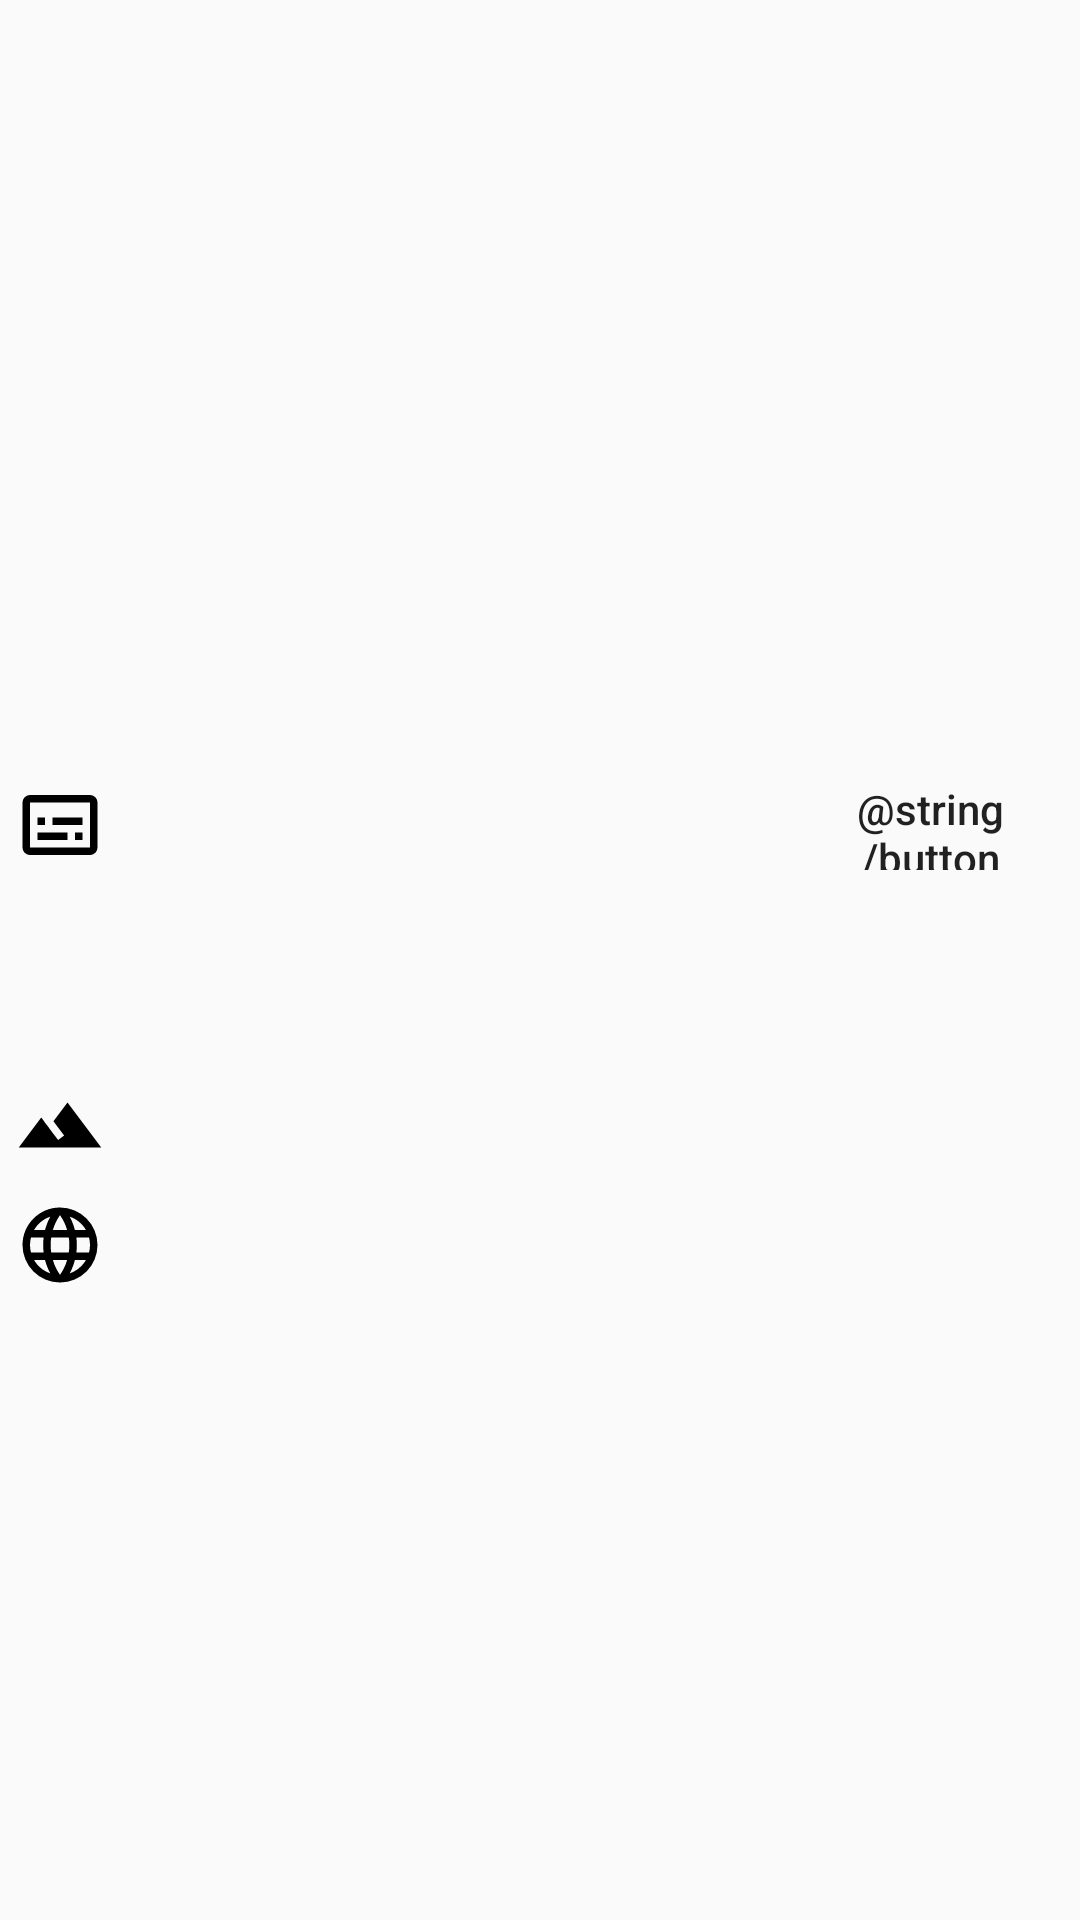

Locate icon controls on the screen. Image size 1080 x 1920, boxes as box(x1, y1, x2, y2).
mountain: box(19, 1102, 101, 1148)
web: box(22, 1207, 98, 1283)
